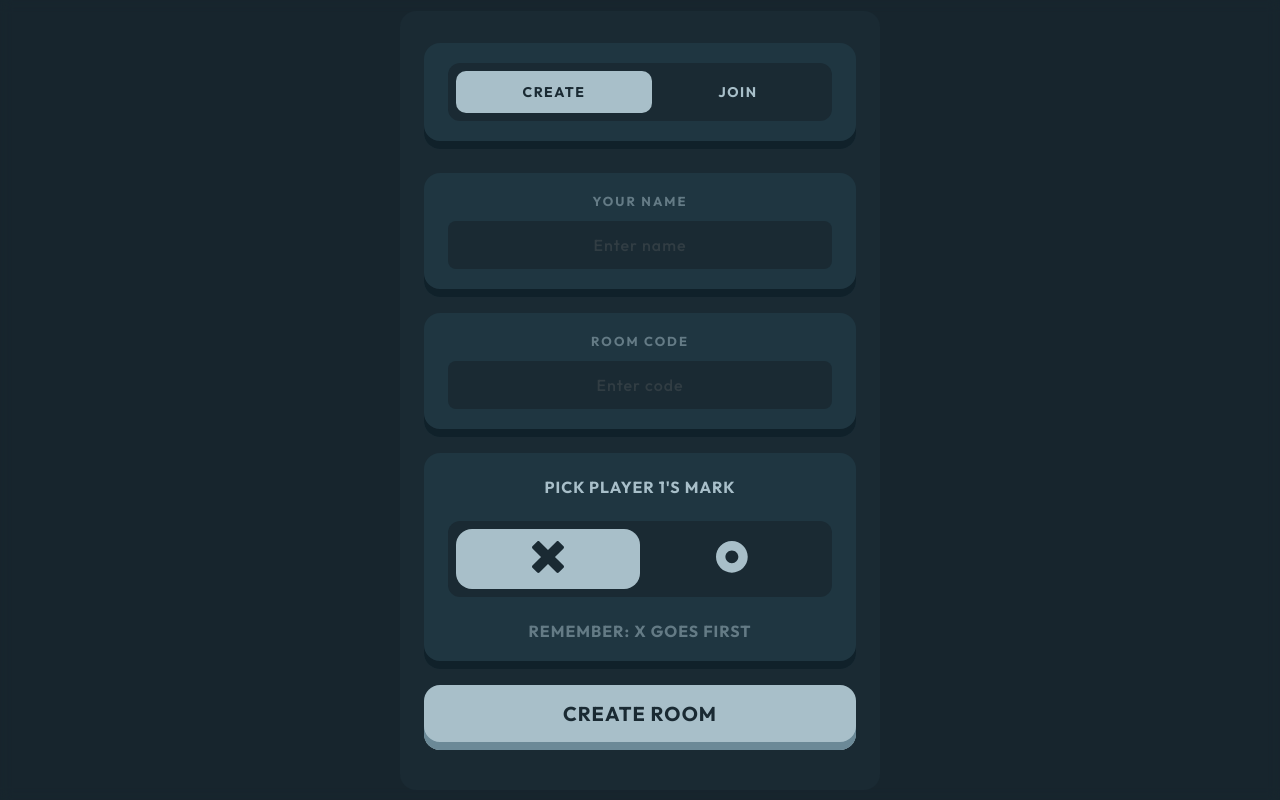
Test: MultiplayerModal — tab switching › switches back to Create view when Create tab is clicked
Click the tab with test id "tab-join". click: (738, 92)
box: 718,82 -> 758,100
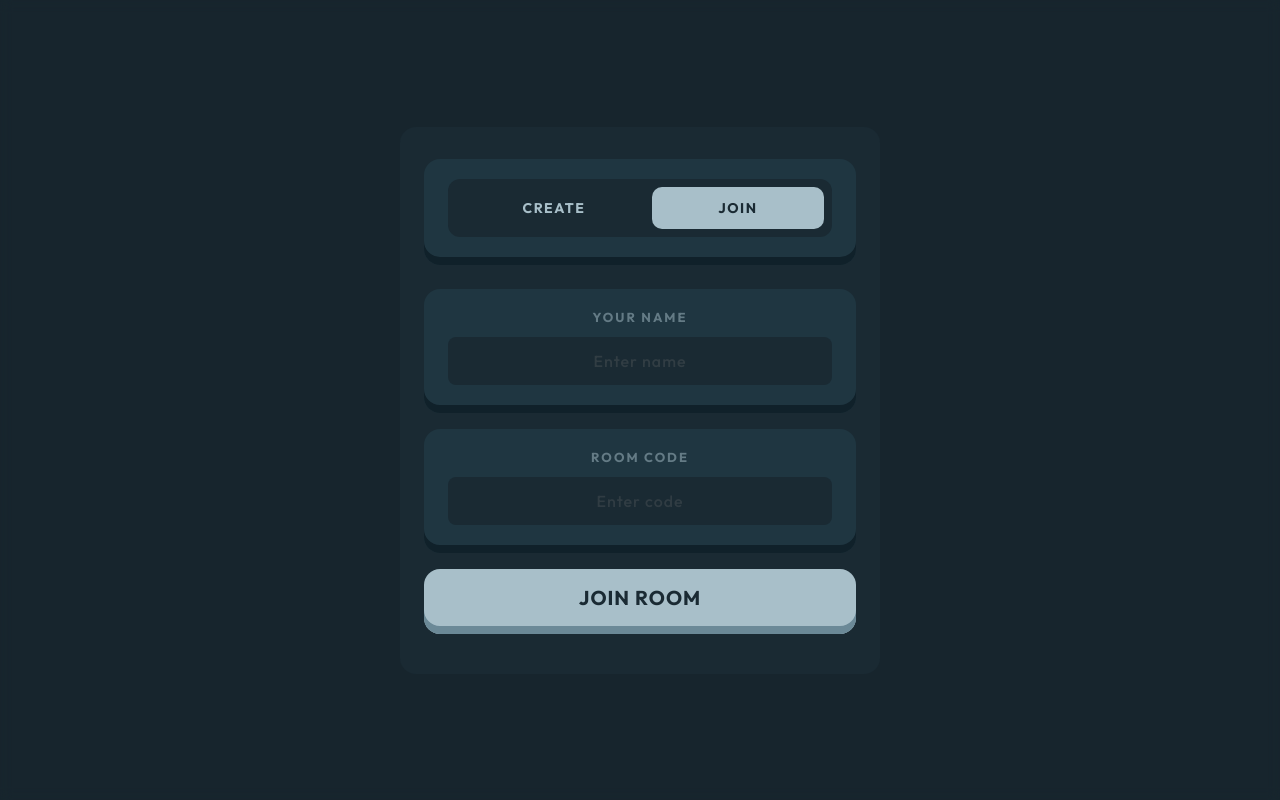
Click the tab with test id "tab-create". click: (554, 208)
box: 522,198 -> 585,216
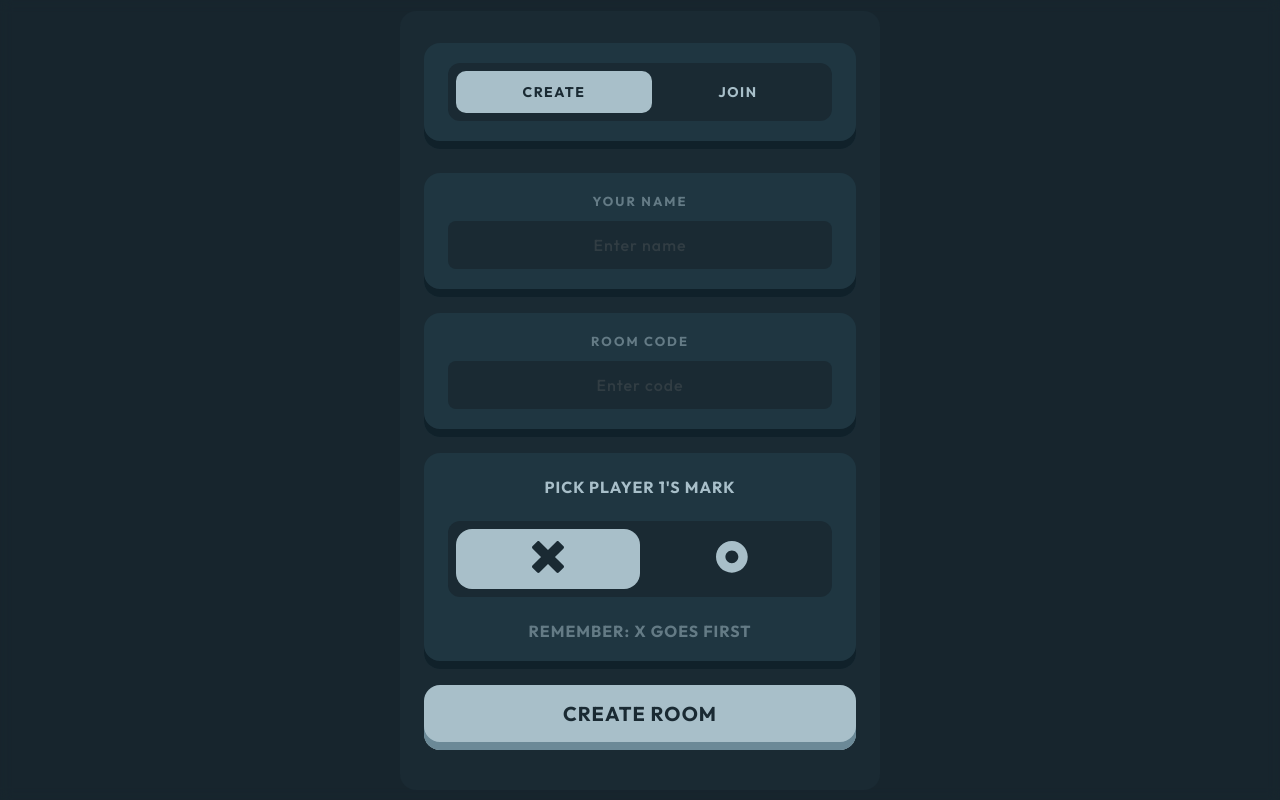
Now the panel with test id "create-view" is shown, box 424,172 -> 856,750
